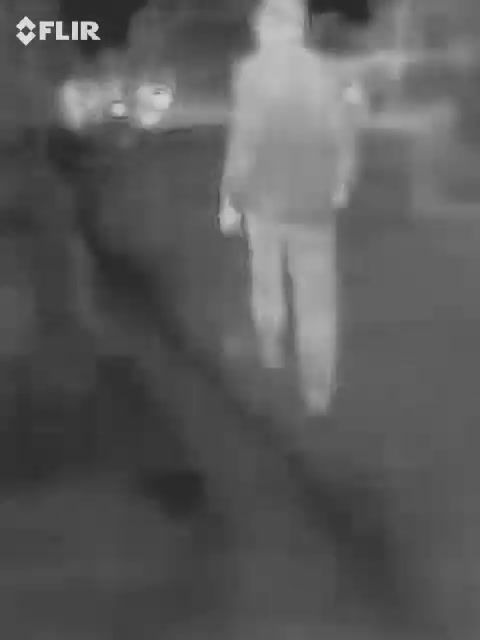head: (249, 1, 319, 53)
